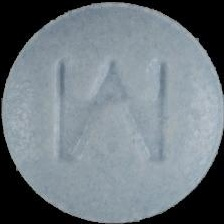0378-2072: (0, 0, 224, 224)
